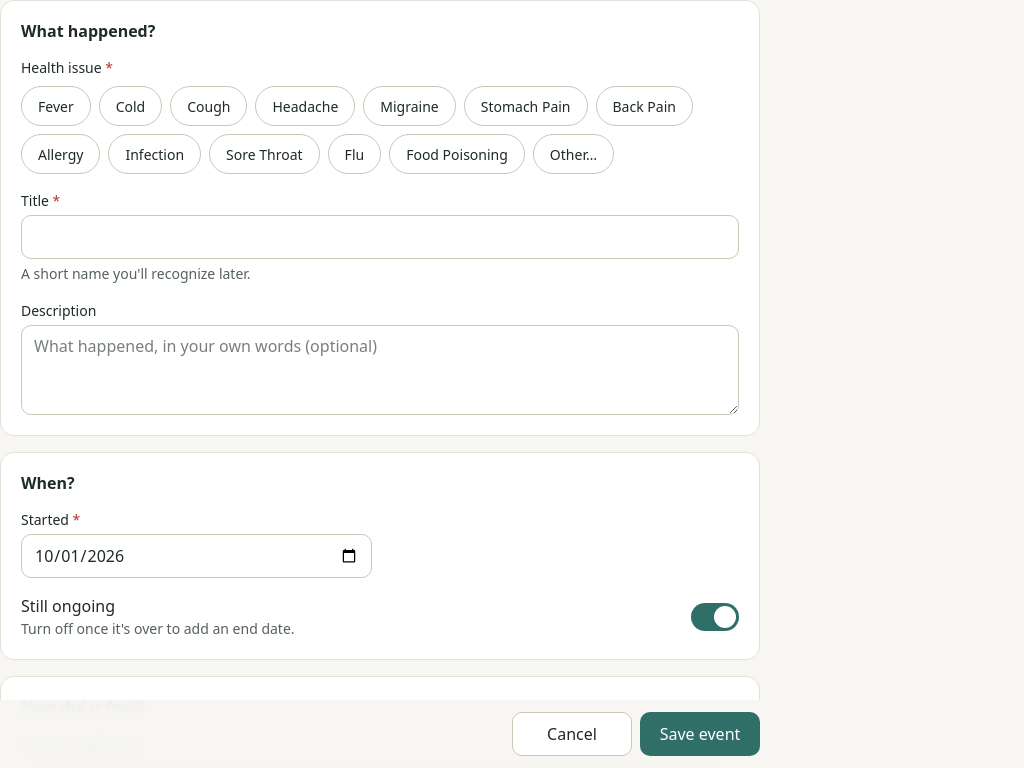
Test: EventForm › requires a health issue and title before saving
This screenshot has width=1024, height=768.
Click the button "Save event". click: x=700, y=734
box: [640,712,760,756]
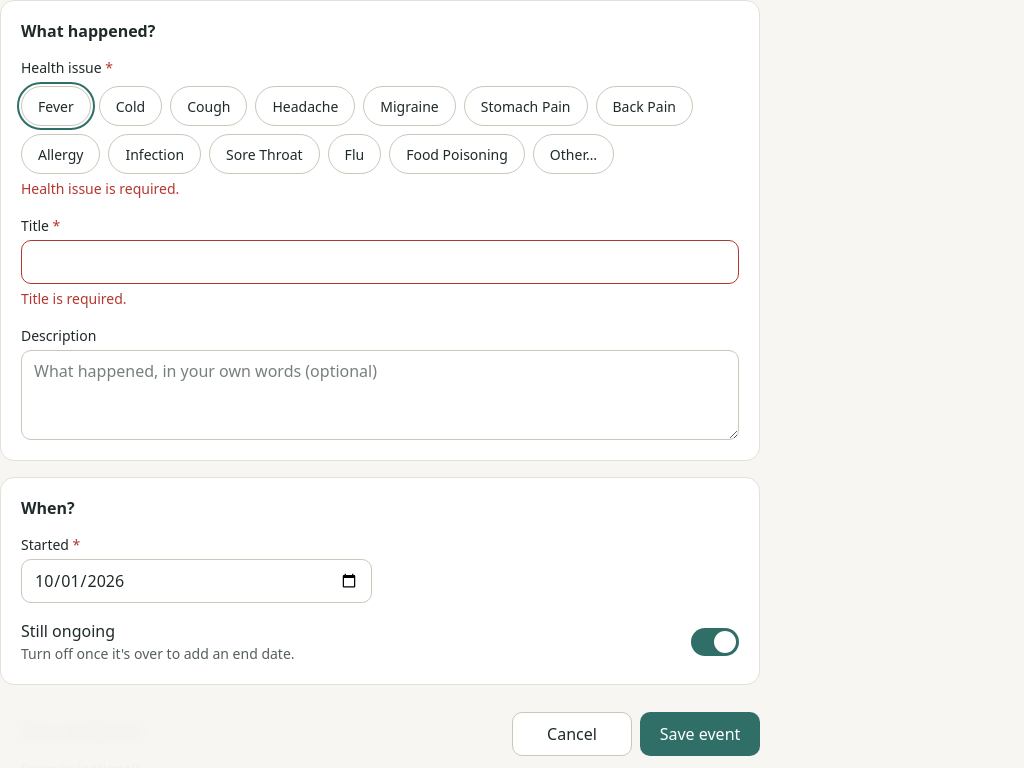
Now the text "Health issue is required." is shown, box [21,179,179,198]
Now the text "Title is required." is shown, box [21,289,127,308]
